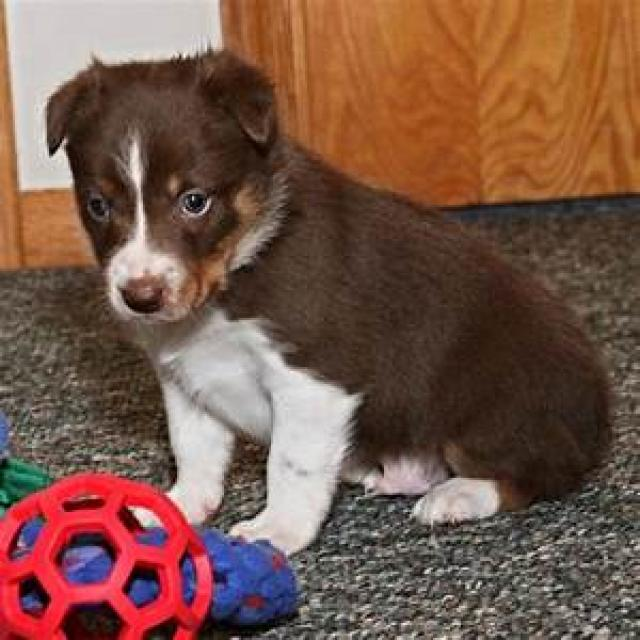animal: (43, 42, 616, 556)
